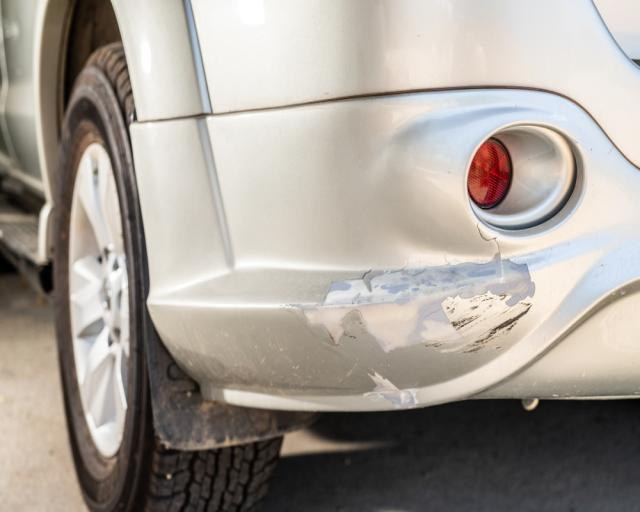dent: (289, 106, 501, 303), (392, 0, 512, 86)
scratch: (295, 258, 546, 359)
